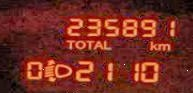0: (139, 60, 160, 83), (23, 59, 42, 80)
1: (104, 59, 115, 82), (164, 19, 178, 36), (128, 60, 139, 81)
2: (71, 59, 95, 81), (63, 16, 82, 37)
3: (82, 17, 100, 37)
5: (102, 17, 120, 37)
8: (121, 17, 138, 36)
9: (139, 17, 157, 37)
X: (157, 42, 171, 50), (64, 38, 74, 48), (74, 39, 84, 48), (102, 39, 111, 49), (147, 40, 157, 49), (84, 39, 93, 48), (93, 40, 101, 49)
